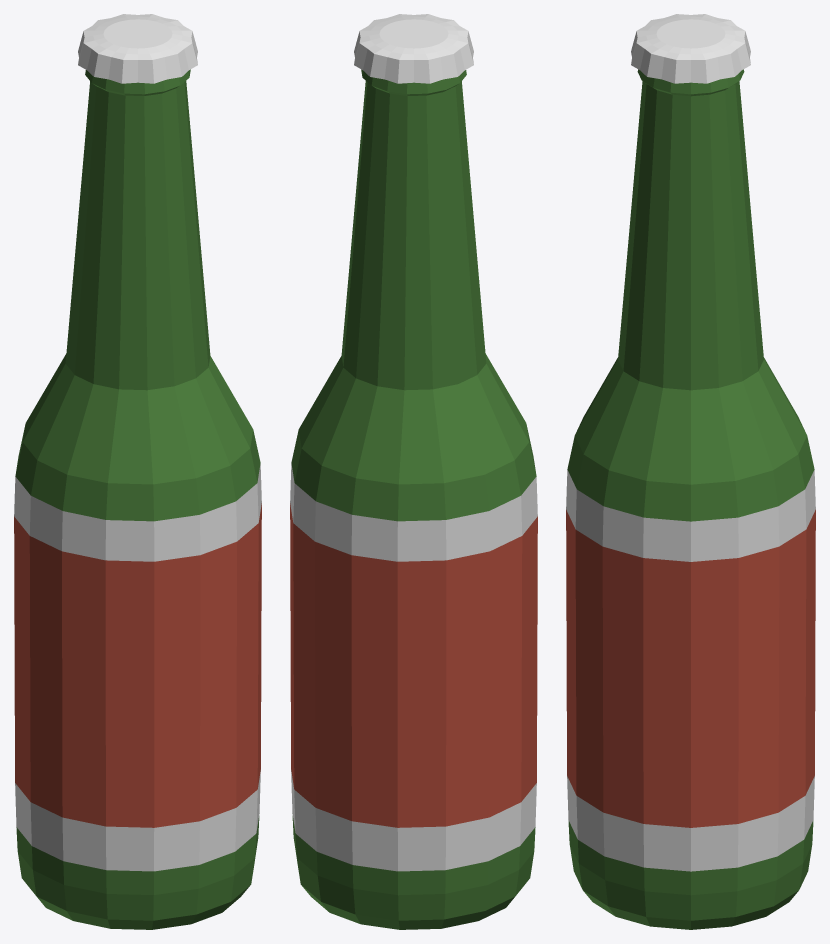
File: Beer_02.fbx
3 renders of one model, left to right at view 1: azimuth 30°, elevation 25°; view 2: azimuth 150°, elevation 25°; view 3: azimuth 270°, elevation 25°, orthographic.
Parts seen in each view (by area): view 1: Beer_02; view 2: Beer_02; view 3: Beer_02.
Boxes of the visible parts, box(x1,y1,x2,y2) form: Beer_02: box(14, 14, 261, 929); Beer_02: box(290, 14, 537, 929); Beer_02: box(566, 14, 815, 929).
Bounding box in the file's own units: 5.65 × 21.25 × 5.65.
